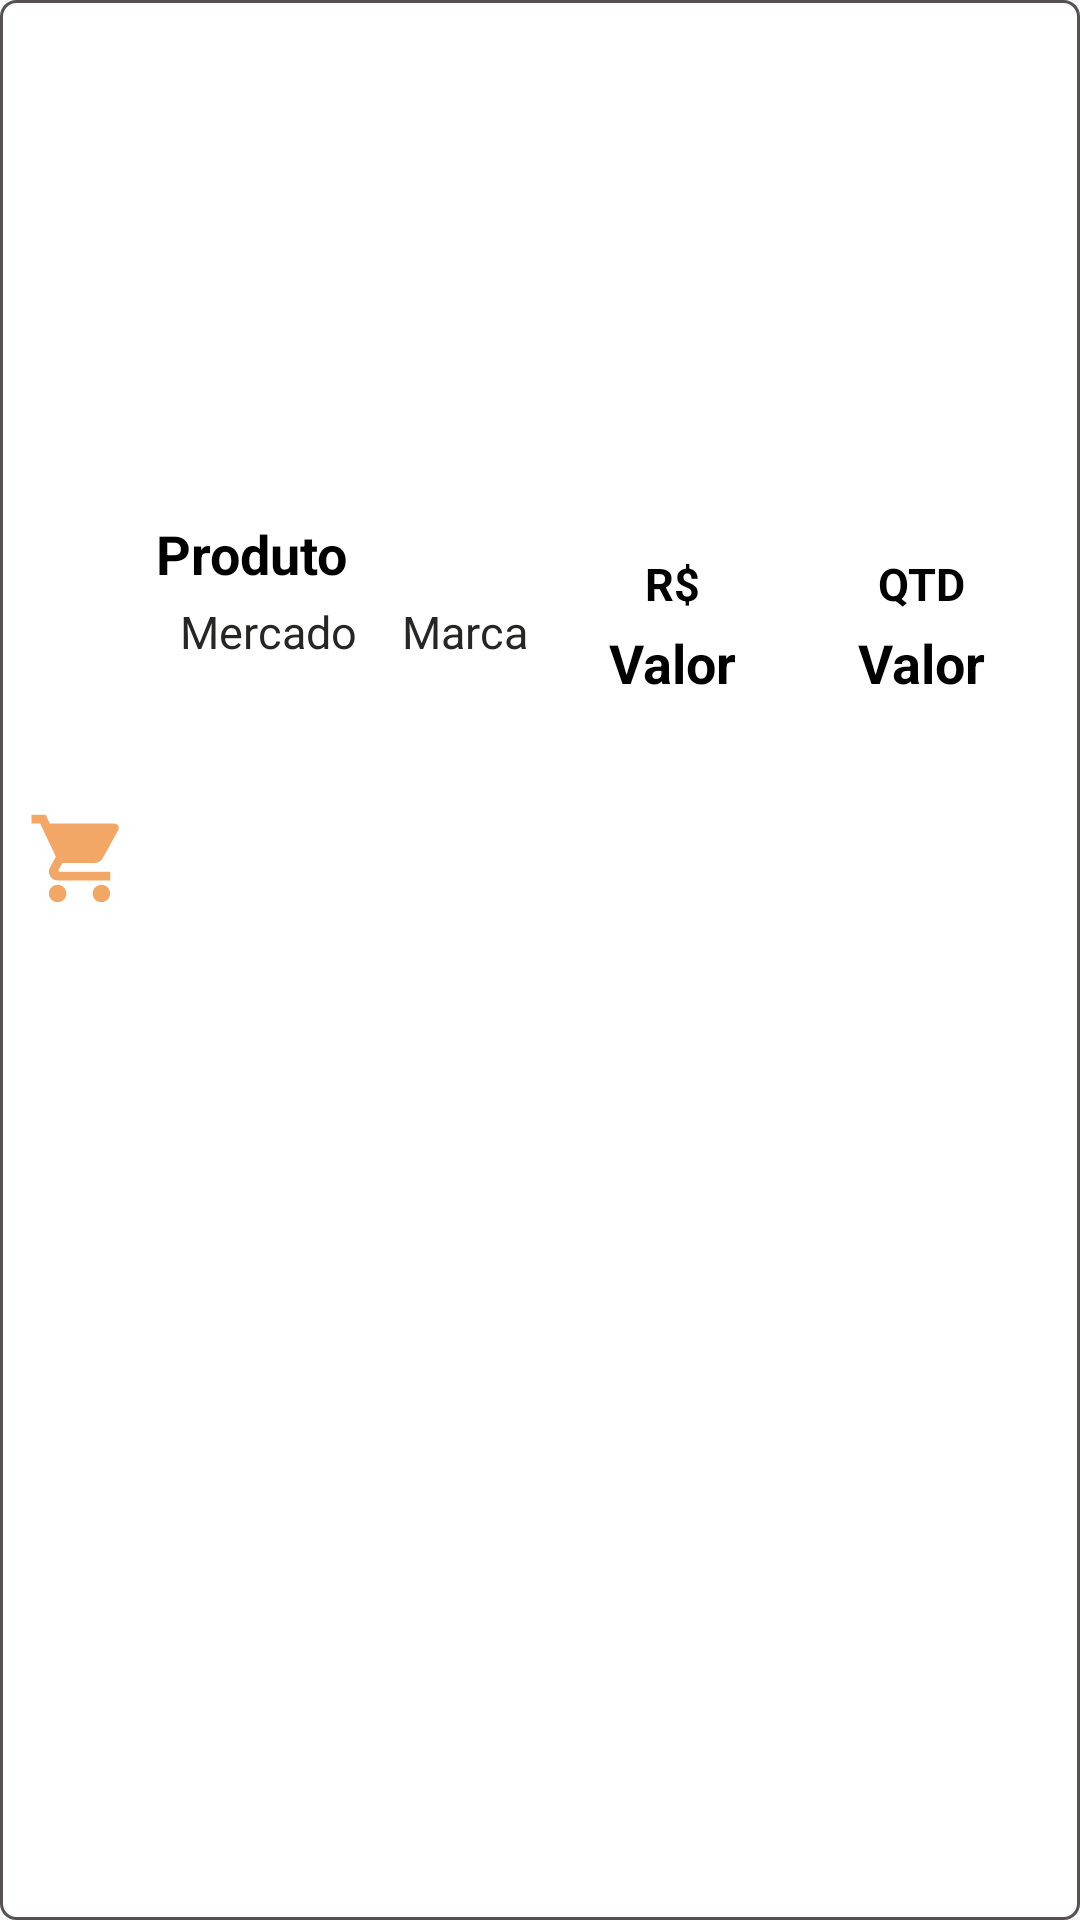

Screen size 1080 × 1920. Icon name, then its box in pixels as (x1, y1, x2, y2):
custom shoppingcart: (31, 814, 119, 903)
